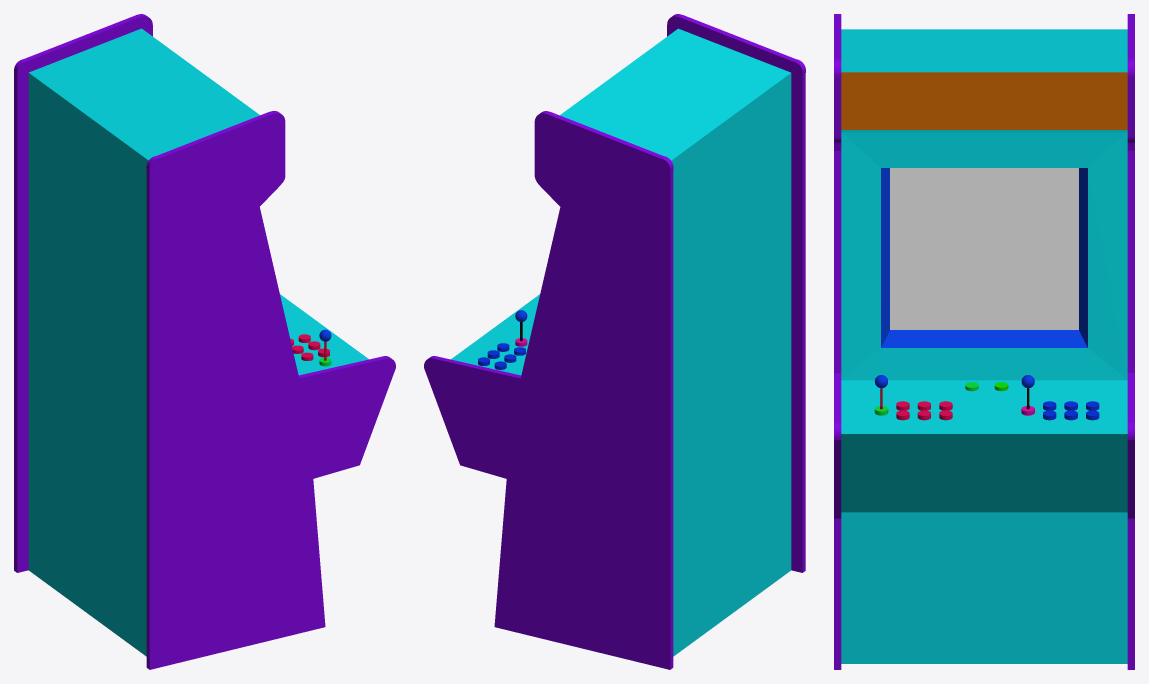
The model's file is arcade machine.dae.
3 views of the same model, side by side, from view 1: azimuth 30°, elevation 25°; view 2: azimuth 150°, elevation 25°; view 3: azimuth 270°, elevation 25° (orthographic). The views are drawn at different scales.
Parts seen in each view (by area): view 1: machine; view 2: machine; view 3: machine.
Boxes of the visible parts, <box> form: machine: <box>14,14,395,669</box>; machine: <box>424,14,805,669</box>; machine: <box>834,14,1134,669</box>.
Bounding box in the file's own units: 2.2 × 2.1 × 4.49.
